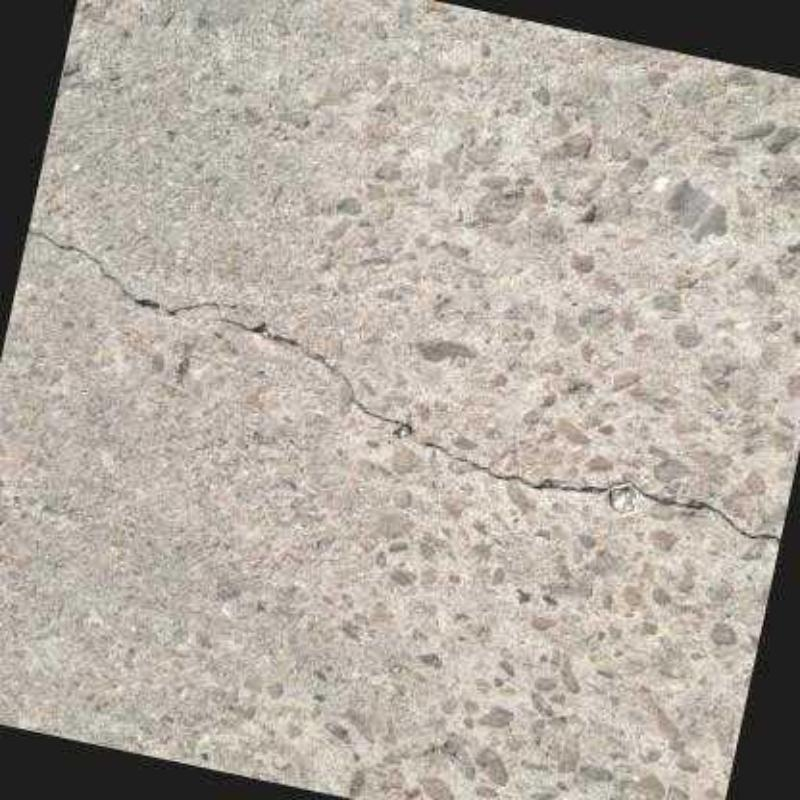pothole: (215, 317, 780, 544), (26, 225, 239, 315)
